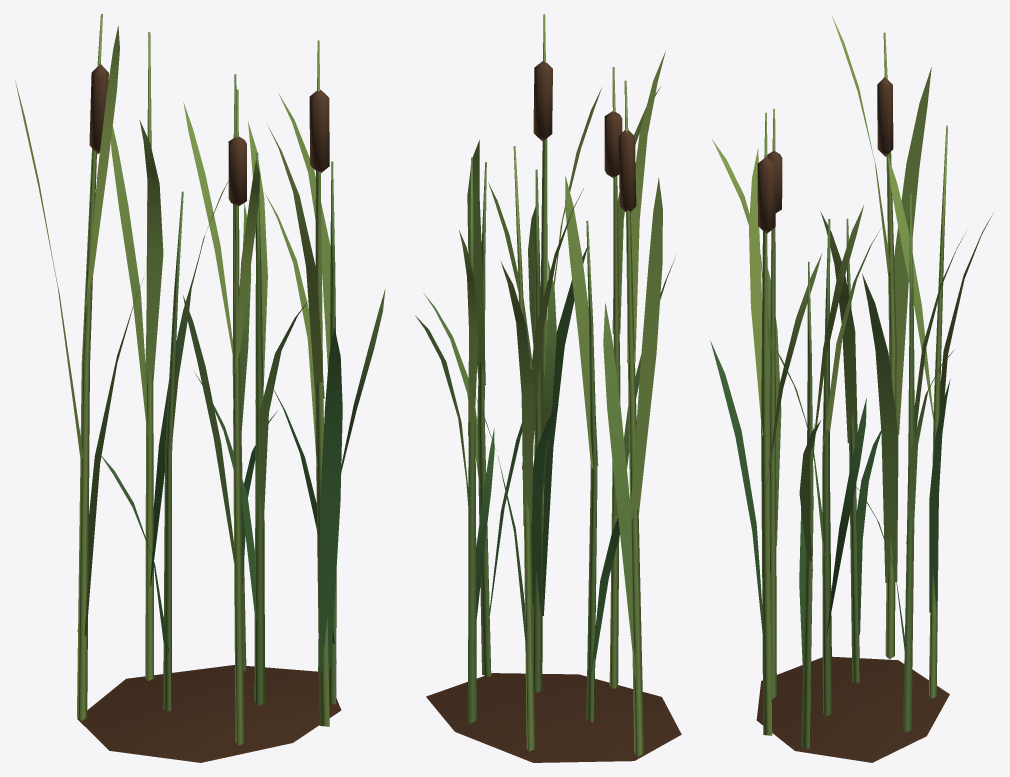
File: reeds_1.glb
3 views of the same model, side by side, from view 1: azimuth 30°, elevation 25°; view 2: azimuth 150°, elevation 25°; view 3: azimuth 270°, elevation 25° (orthographic). The views are drawn at different scales.
Parts seen in each view (by area): view 1: reeds_1; view 2: reeds_1; view 3: reeds_1.
Boxes of the visible parts, box(x1,y1,x2,y2) form: reeds_1: box(15, 14, 385, 762); reeds_1: box(415, 14, 681, 762); reeds_1: box(710, 16, 993, 762).
Size of the model in its own units: 0.9 by 2 by 0.8.
Materials: 2 (2 with a texture image).
